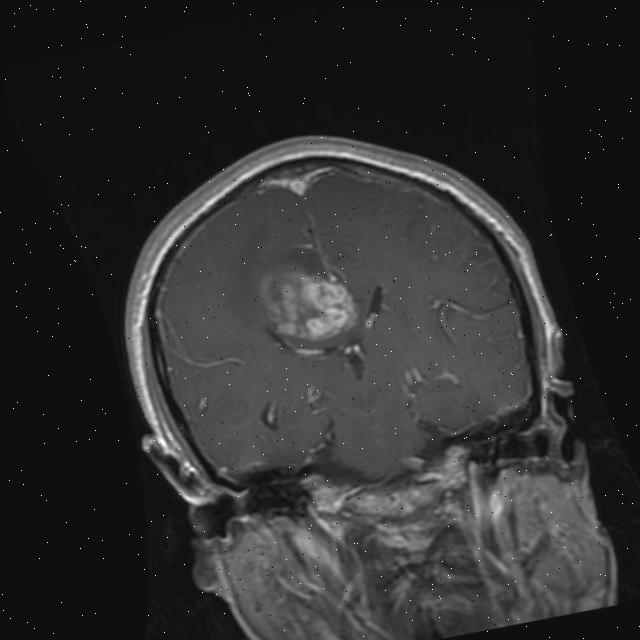Glioma: (247, 247, 364, 352)
Pituitary: (349, 473, 441, 526)
